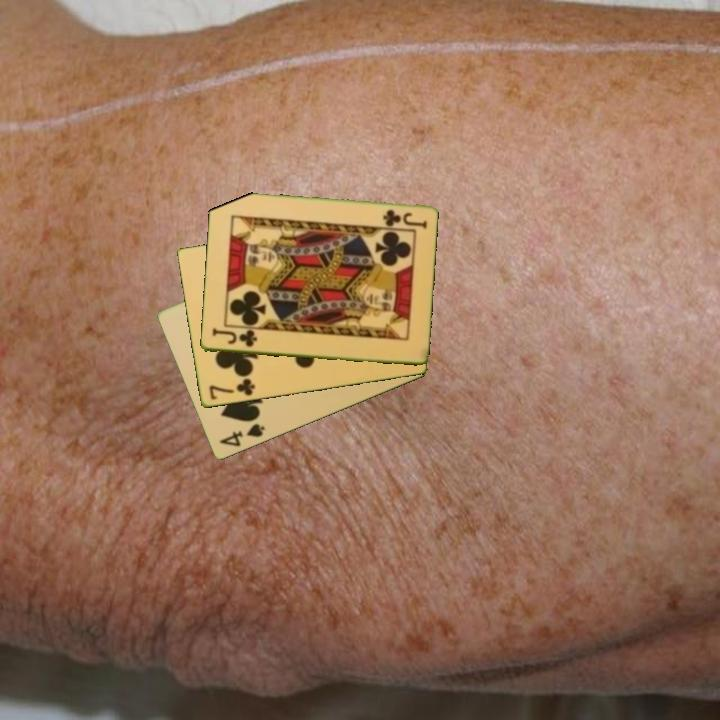4s: (215, 420, 268, 450)
7c: (205, 375, 258, 403)
Jc: (208, 326, 260, 350), (379, 206, 429, 230)
